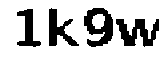1: (15, 5, 42, 53)
9: (82, 5, 113, 52)
k: (46, 6, 80, 49)
w: (115, 15, 160, 51)
